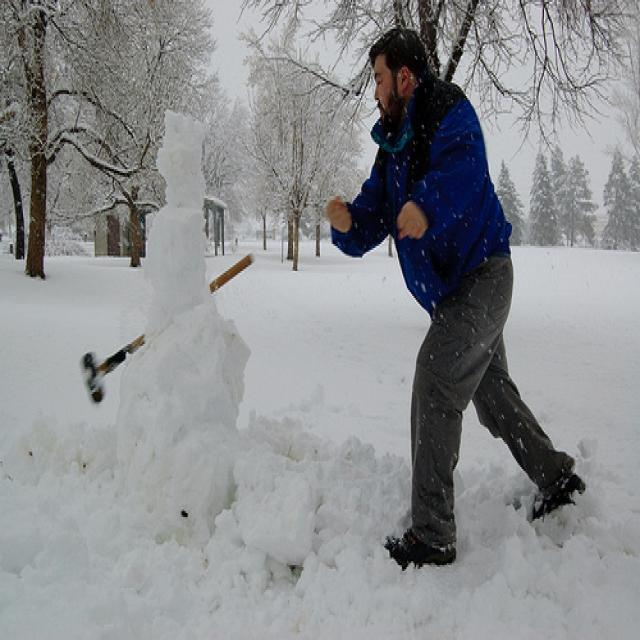hammer: (70, 241, 260, 418)
